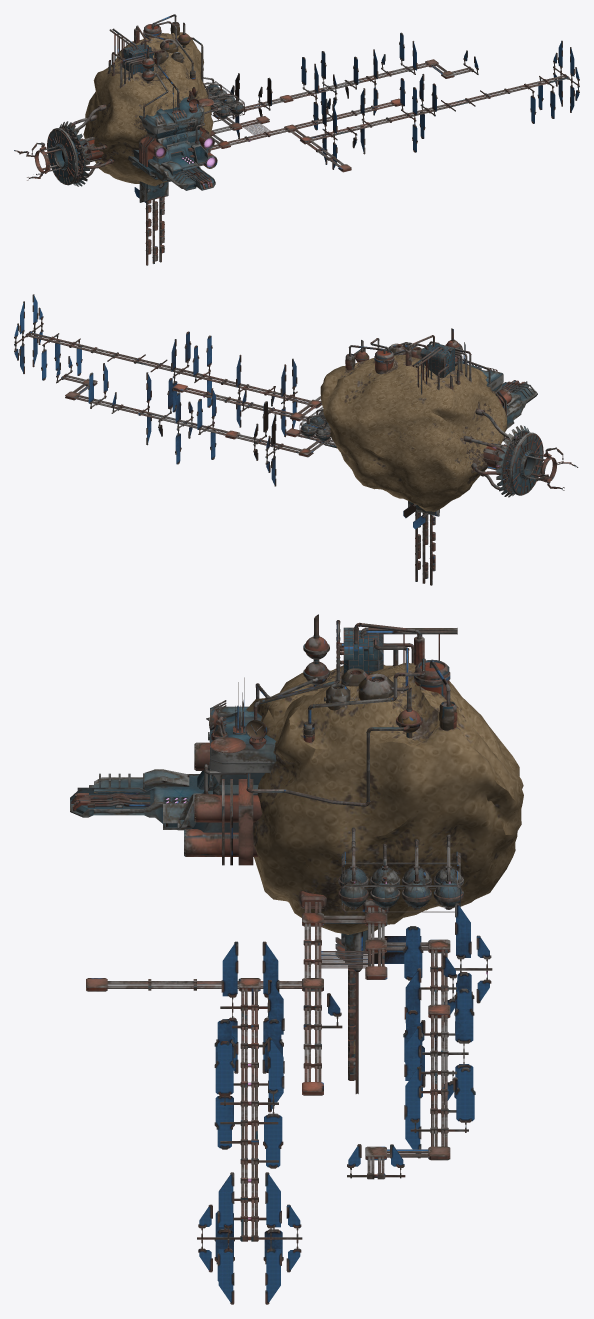
File: station_ssc_mining_outpost.glb
3 renders of one model, top to bottom at view 1: azimuth 30°, elevation 25°; view 2: azimuth 150°, elevation 25°; view 3: azimuth 270°, elevation 25°, orthographic. The views are drawn at different scales.
Visible parts, largest first — view 1: SSC Mining Outpost; view 2: SSC Mining Outpost; view 3: SSC Mining Outpost.
Part boxes in pixels (box(x1,y1,x2,y2)): SSC Mining Outpost: box(14, 14, 579, 265); SSC Mining Outpost: box(14, 294, 578, 585); SSC Mining Outpost: box(70, 614, 523, 1304).
Bounding box in the file's own units: 392 × 165 × 149.
Materials: 1 (1 with a texture image).
